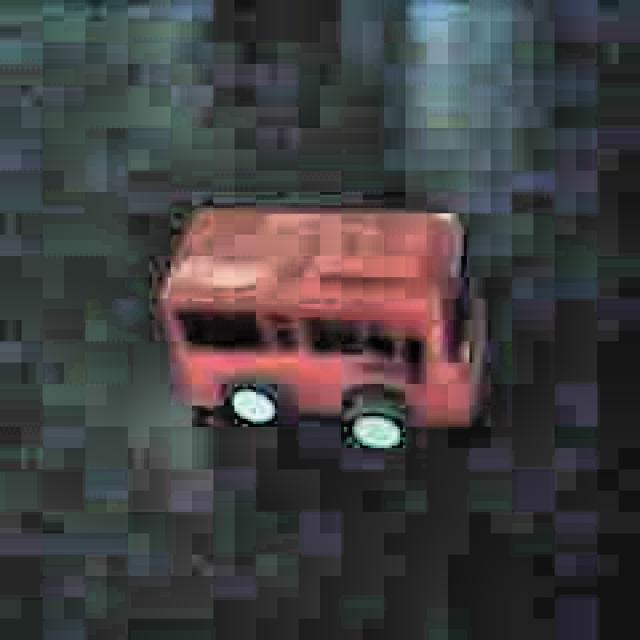bus: (153, 182, 493, 464)
